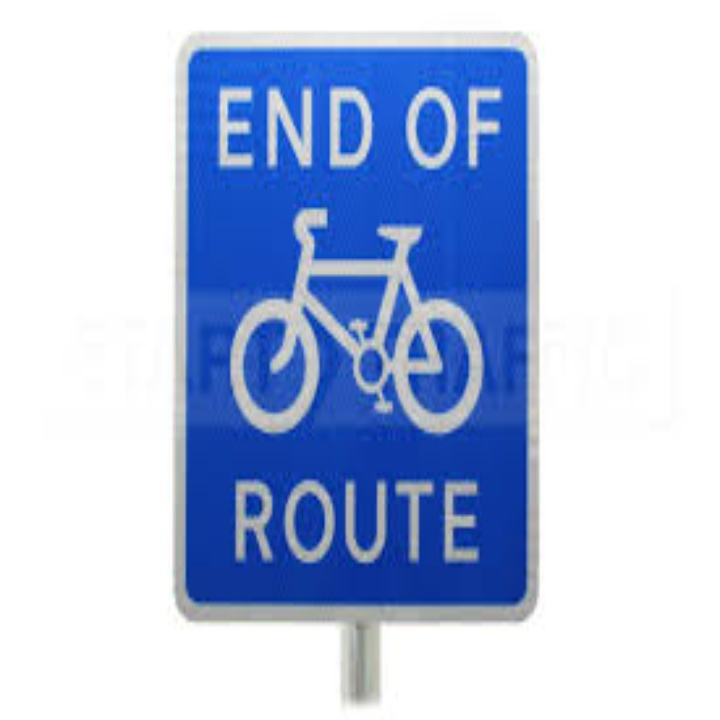bicycle: (219, 193, 495, 469)
